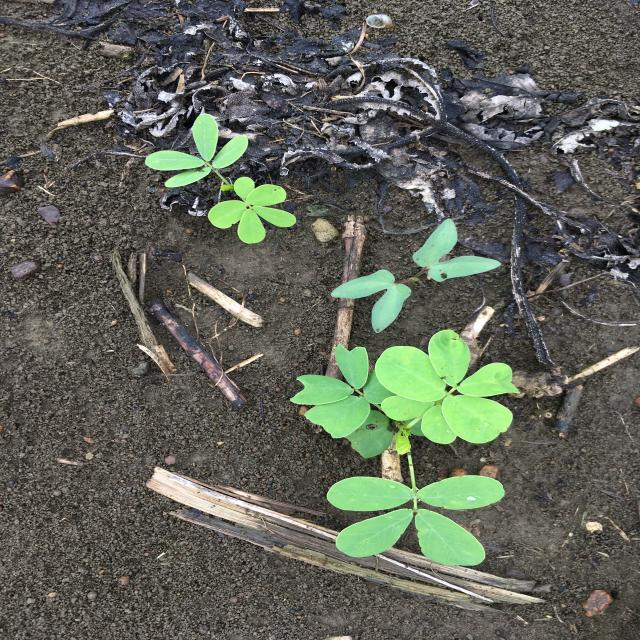MorningGlory: (331, 218, 502, 333)
Sicklepod: (290, 329, 520, 566), (144, 114, 296, 243)
